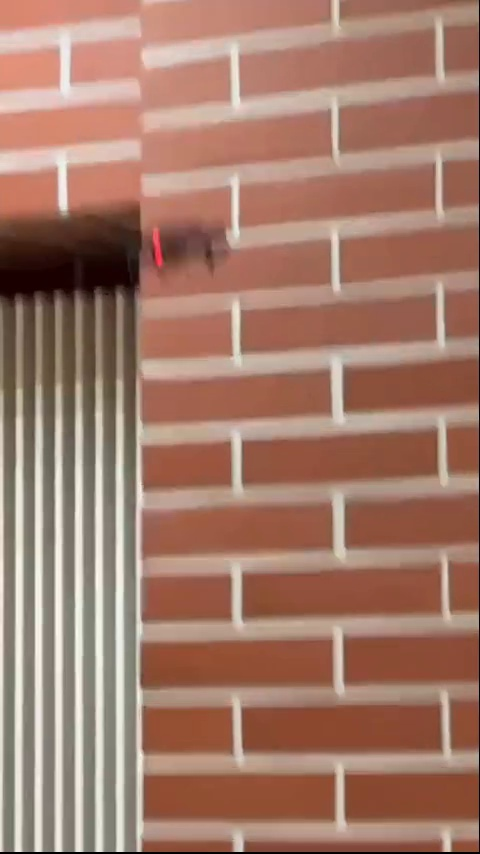drone: (109, 223, 246, 284)
